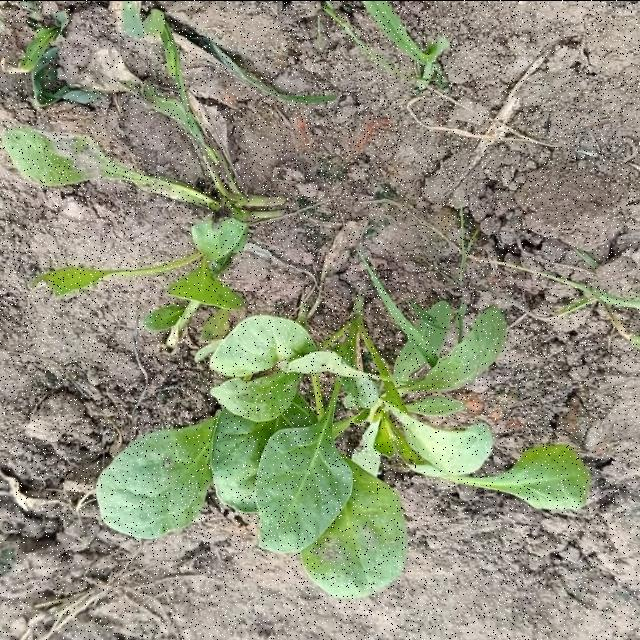plant: (4, 0, 590, 598)
